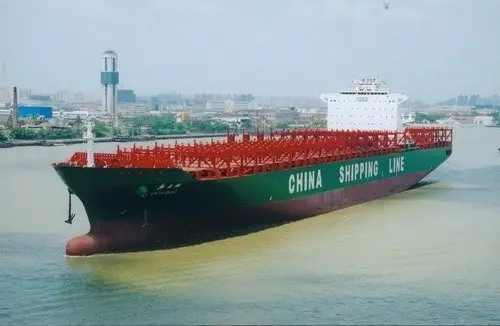Cargoship: (46, 73, 458, 255)
